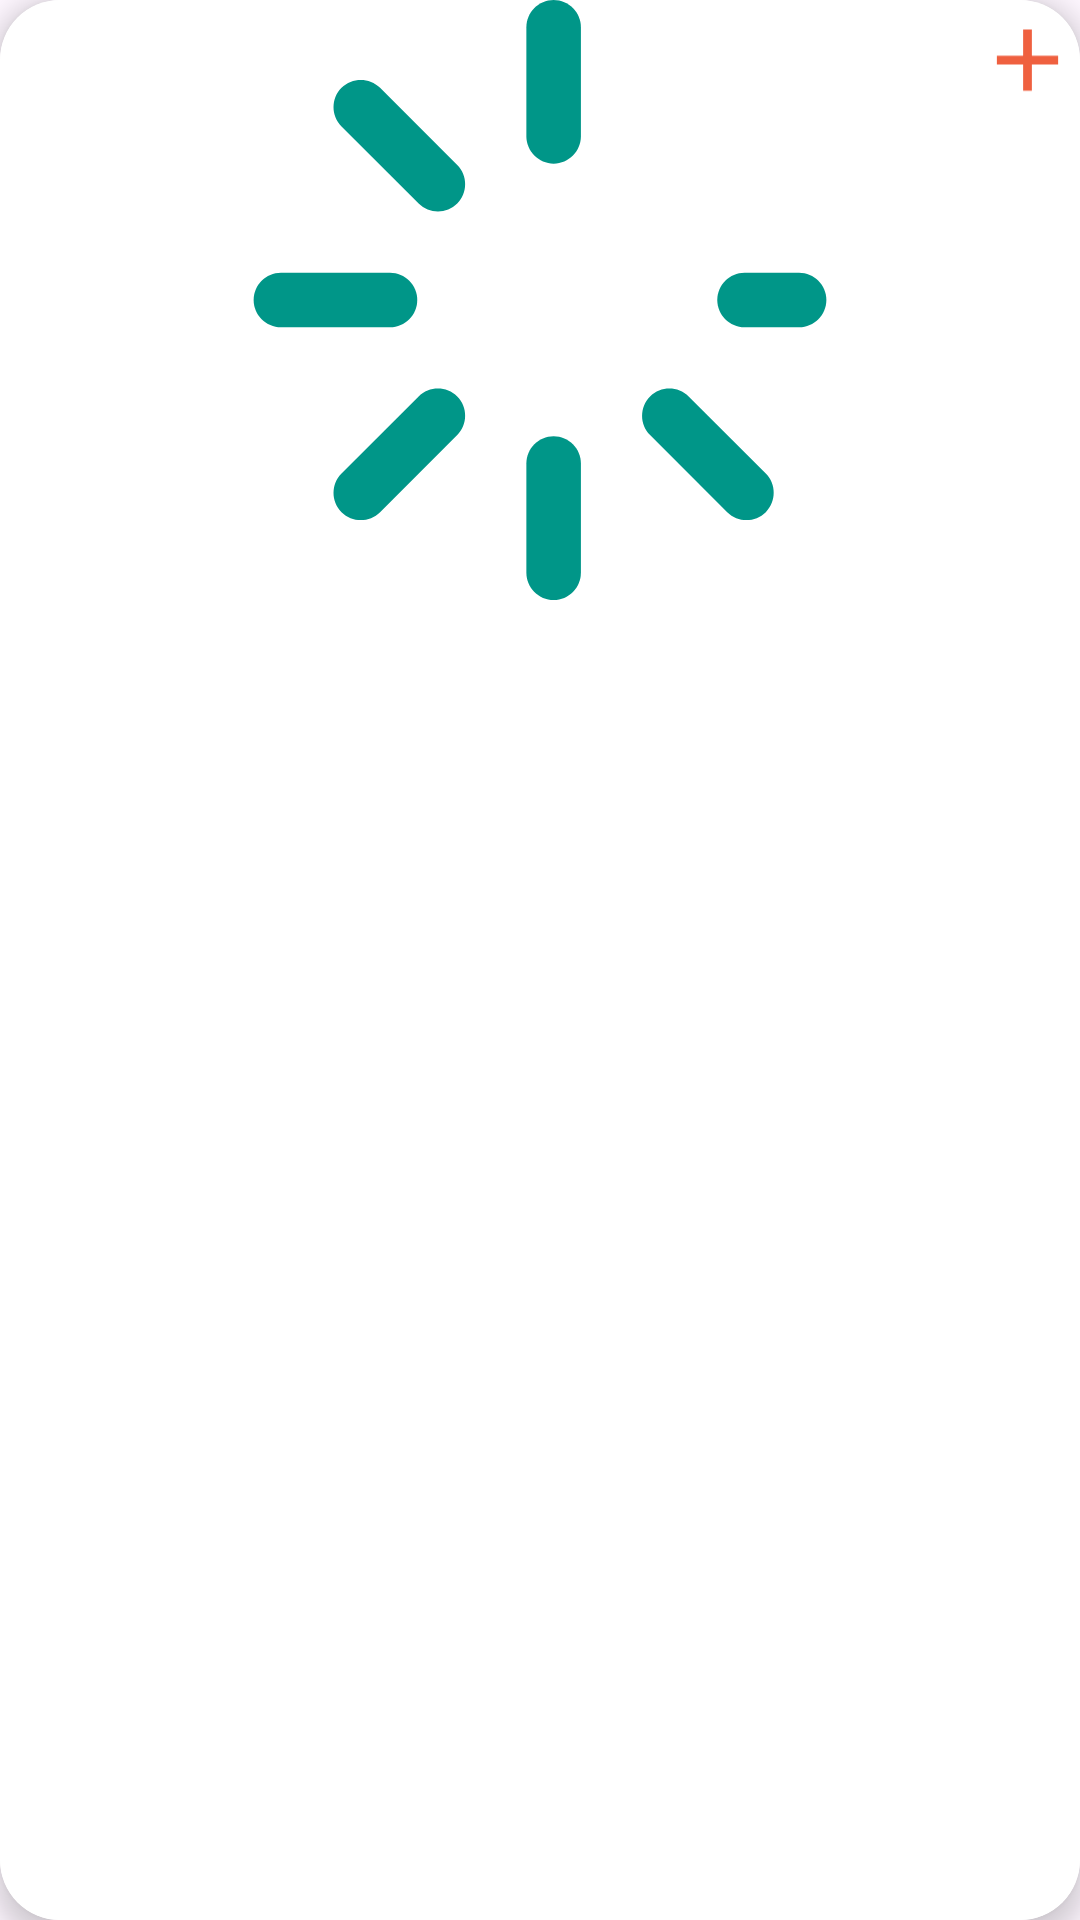

Screen size 1080×1920. Icon name, then its box in pixels as region(x1, y1, x2, y2):
add: region(997, 0, 1080, 91)
